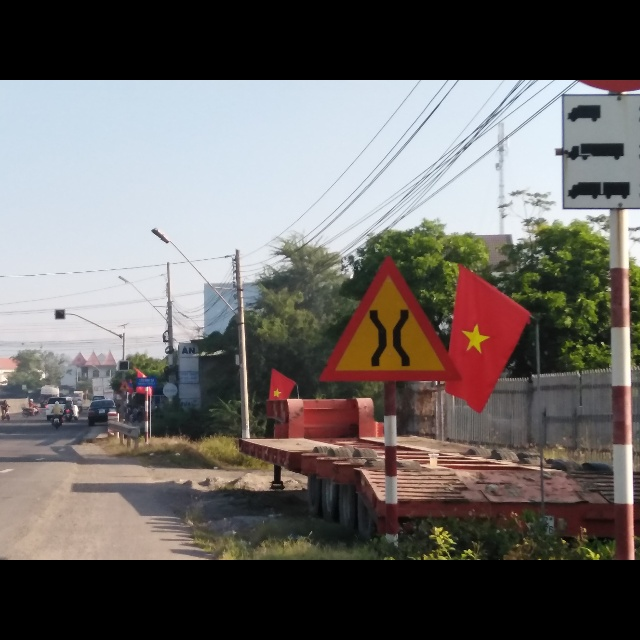Cầu hẹp: (317, 255, 460, 387)
